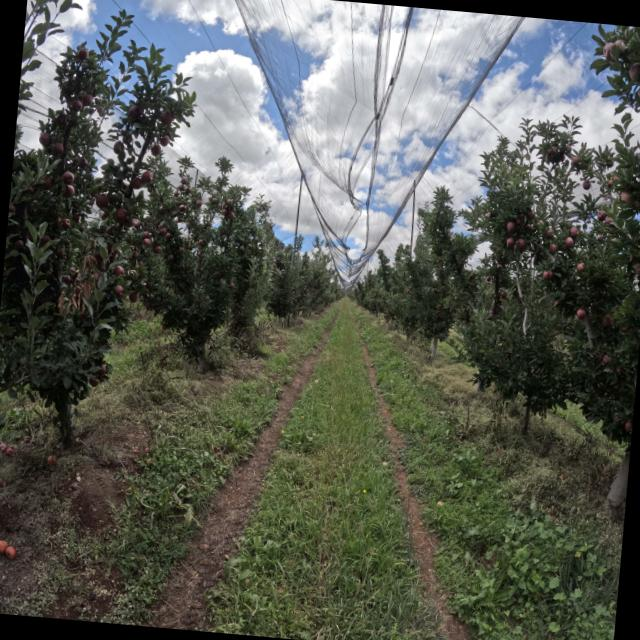-FireBlight-: (58, 231, 115, 315)
